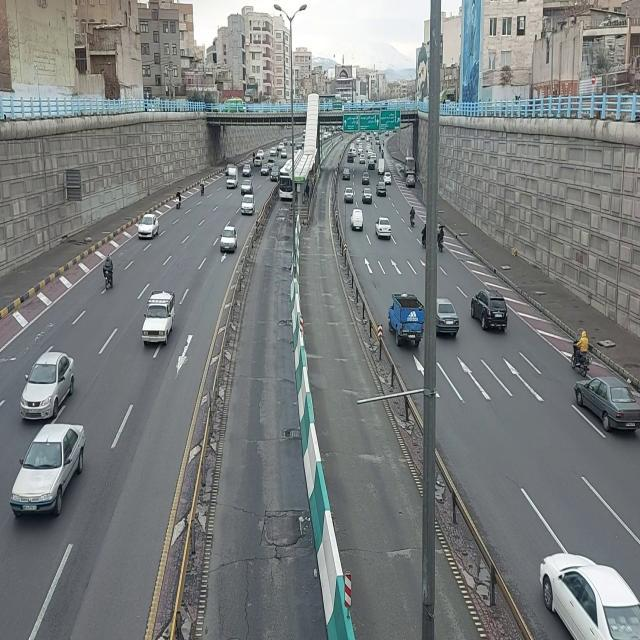Bus: (278, 158, 294, 202)
Car: (538, 552, 640, 640), (9, 422, 87, 524), (18, 351, 76, 421), (574, 376, 640, 436), (470, 290, 510, 334), (437, 295, 461, 339), (138, 213, 160, 242), (219, 226, 237, 254), (376, 215, 393, 241), (241, 194, 255, 216), (240, 179, 254, 194), (344, 185, 354, 205), (376, 180, 387, 198), (362, 186, 373, 204), (270, 165, 280, 183), (261, 162, 270, 178), (405, 174, 415, 188), (242, 164, 252, 178), (343, 167, 352, 181), (383, 172, 392, 185), (362, 172, 370, 185), (267, 158, 276, 169), (254, 156, 262, 168), (367, 159, 375, 170), (347, 151, 354, 163), (280, 149, 288, 159), (359, 153, 365, 164), (270, 147, 276, 157), (370, 153, 377, 161), (257, 149, 265, 156), (278, 142, 285, 150), (297, 141, 303, 150), (358, 146, 364, 154), (283, 138, 289, 146)
Motorcycle: (571, 326, 595, 378), (103, 254, 114, 291), (437, 224, 447, 254), (410, 206, 416, 228), (175, 189, 181, 209), (199, 177, 205, 197), (252, 151, 254, 163), (382, 149, 384, 159), (379, 144, 381, 154), (277, 148, 279, 158), (382, 139, 384, 147)
Pickup: (388, 289, 425, 349), (141, 289, 175, 347), (350, 208, 364, 231), (227, 167, 239, 191), (378, 158, 386, 176)
